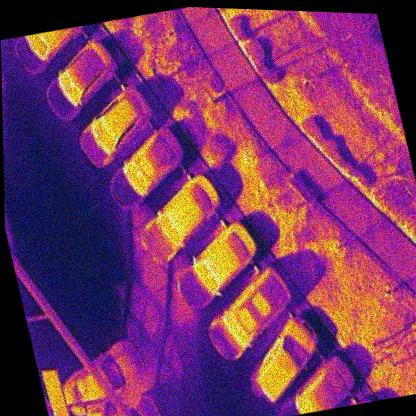Hotspot: (42, 368, 69, 416)
